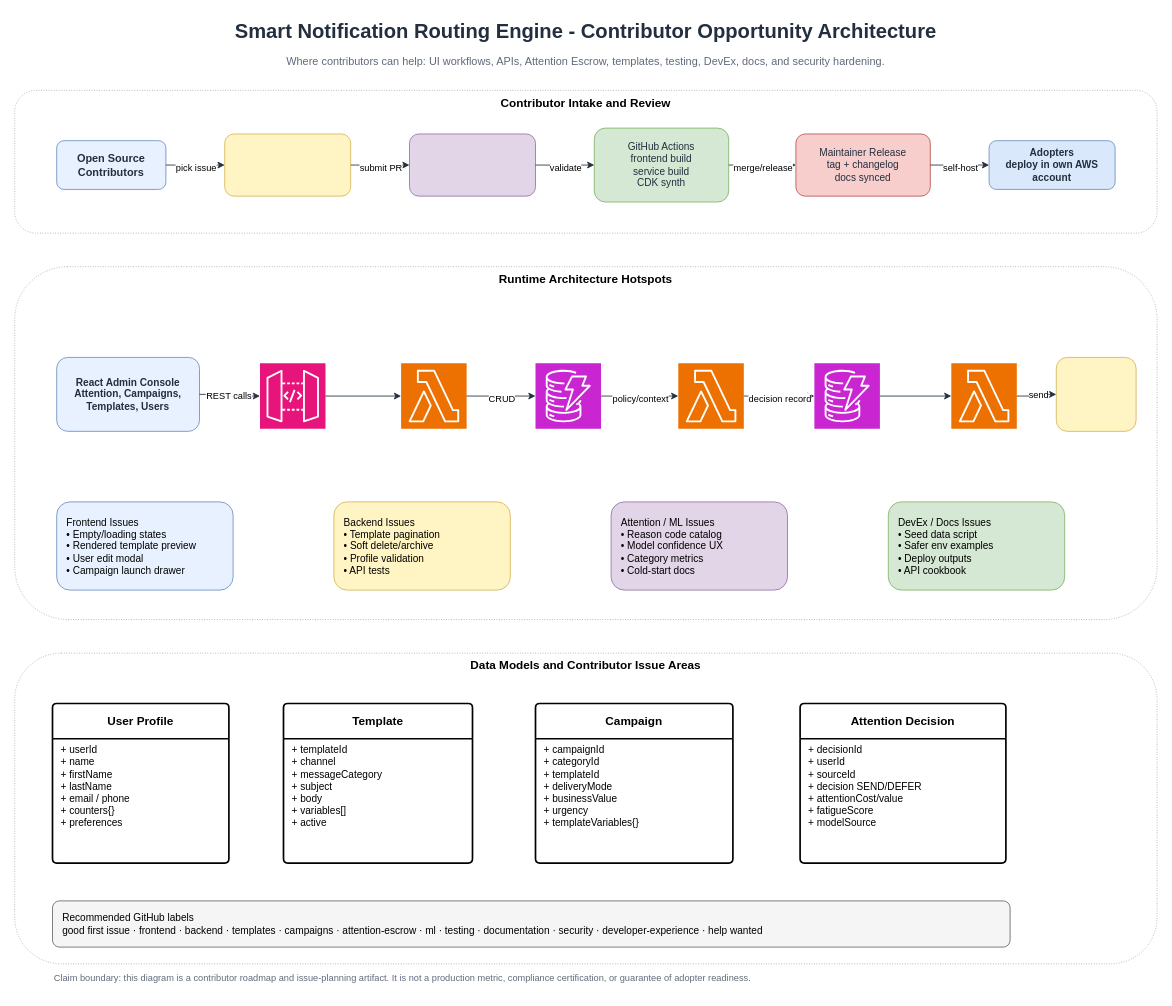
Image size: 1172x1006. Some labels were removed from this diagram. The shapes that lost their labels are listed below. From the top down, each one's centre as x and y in pixels, then its label:
At [287,164]: "GitHub Issues good first issue help wanted".
At [472,164]: "Pull Request code + docs review".
At [292,395]: "HTTP API JWT authorizer".
At [433,395]: "Control Plane /users /templates /campaigns /audiences".
At [568,395]: "DynamoDB Config Records categories/templates campaigns/audiences".
At [710,395]: "Decision Service Attention Escrow batch preview".
At [847,395]: "DynamoDB Attention Ledger decision audit".
At [983,395]: "Sender Service render templates deliver channels".
At [1095,394]: "SES / SNS Email + SMS Bounce feedback".
